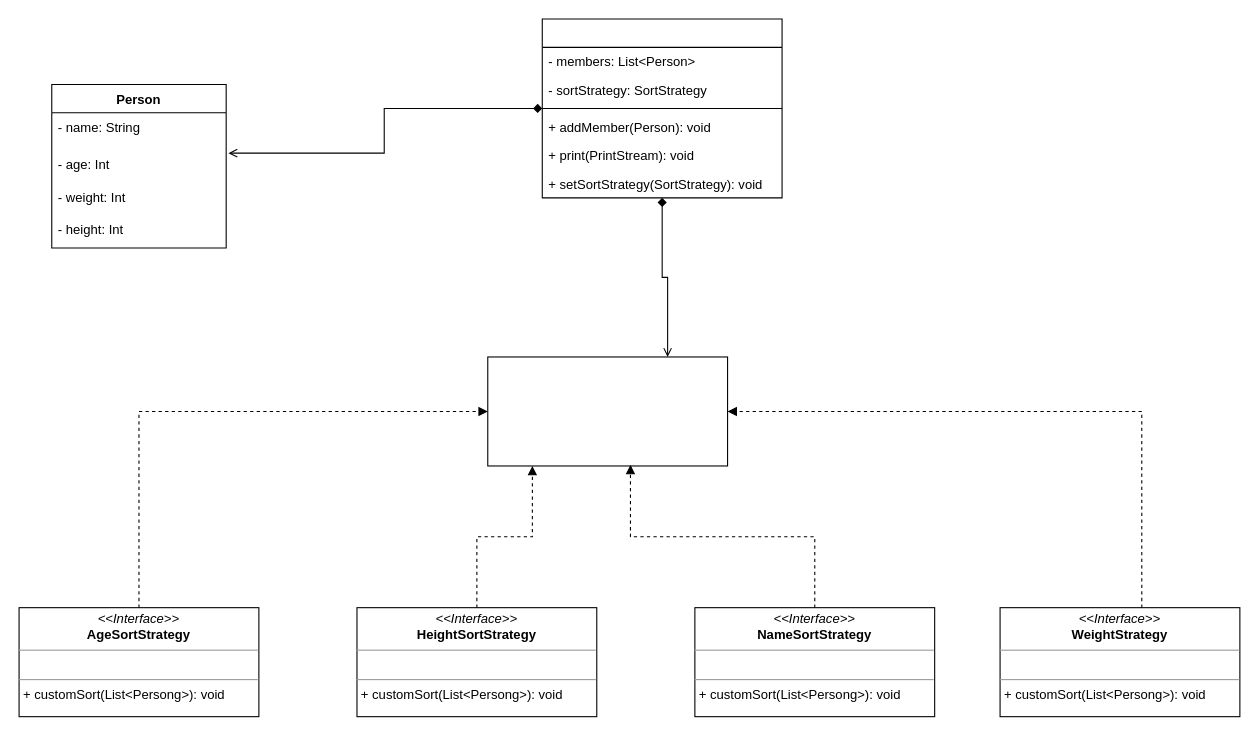
Some shapes in this 1259 by 736 pixel diagram are drawn without their labels. Here are the shapes that lost their labels. From the top down, the box of each, then its label:
(541, 18, 782, 198): People
(487, 356, 728, 466): <<Interface>> SortStrategy + customSort(List<Persong>): void
